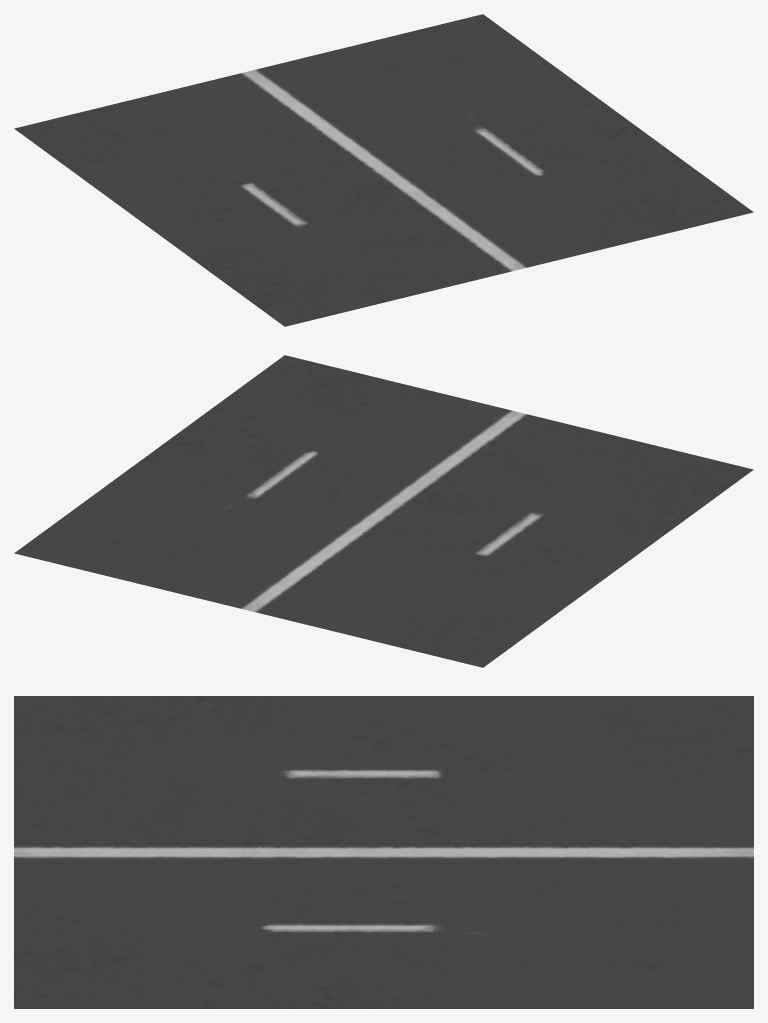
File: BgMD_roadSTRAIGHT.fbx
3 renders of one model, top to bottom at view 1: azimuth 30°, elevation 25°; view 2: azimuth 150°, elevation 25°; view 3: azimuth 270°, elevation 25°, orthographic. The views are drawn at different scales.
Parts seen in each view (by area): view 1: pPlane34; view 2: pPlane34; view 3: pPlane34.
Boxes of the visible parts, box(x1,y1,x2,y2) form: pPlane34: box(14, 14, 753, 326); pPlane34: box(14, 355, 753, 667); pPlane34: box(14, 696, 753, 1008).
Size of the model in its own units: 2000 by 0 by 2000.
1 material, 1 textured.
